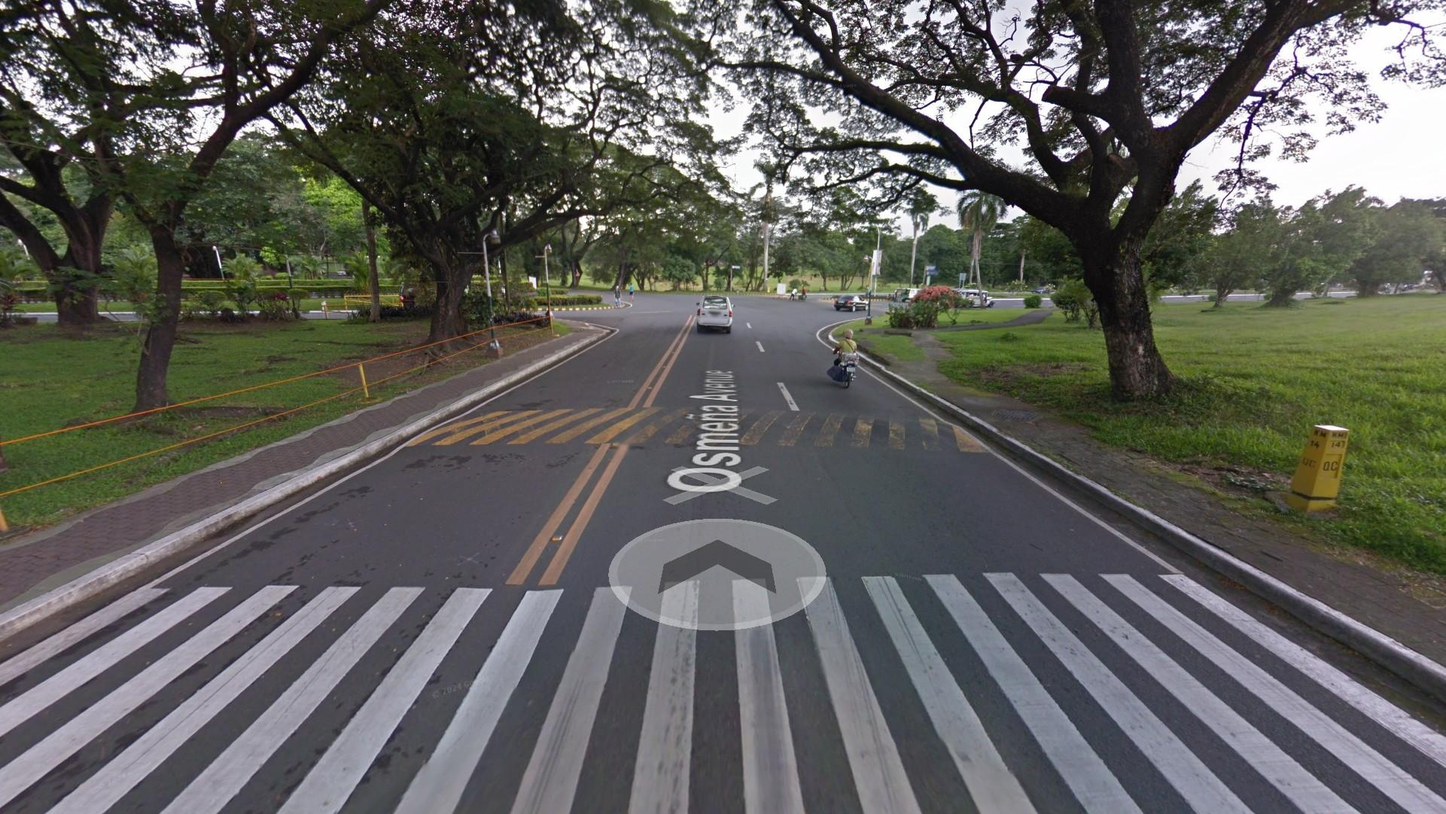pedestrian: (613, 285, 622, 309), (788, 287, 798, 302), (628, 283, 635, 301)
